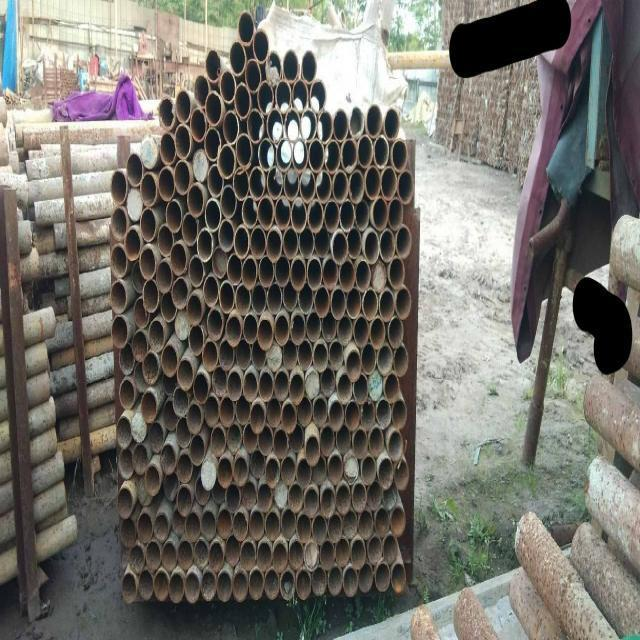pipe: (344, 339, 362, 381), (111, 240, 128, 279), (151, 568, 169, 604), (110, 168, 128, 204), (368, 256, 386, 292), (286, 536, 304, 570), (386, 314, 404, 348), (368, 316, 386, 350), (124, 186, 142, 220), (138, 243, 156, 277), (338, 256, 356, 290), (252, 27, 269, 62), (230, 568, 248, 601), (376, 343, 394, 376), (233, 84, 251, 117), (118, 376, 135, 410), (376, 456, 394, 488), (388, 254, 404, 290), (247, 108, 265, 140), (291, 78, 309, 110), (255, 539, 272, 572), (193, 539, 210, 572), (158, 165, 175, 198), (174, 161, 191, 194), (380, 166, 397, 199), (249, 399, 265, 434), (360, 341, 376, 376), (121, 570, 137, 604), (216, 570, 232, 604), (272, 538, 288, 572), (311, 512, 327, 546), (159, 288, 176, 320), (124, 226, 140, 260), (156, 258, 172, 292), (193, 74, 209, 108), (299, 167, 315, 201), (309, 78, 326, 110), (326, 338, 344, 368), (110, 206, 128, 236), (394, 288, 412, 318), (139, 136, 157, 166), (204, 198, 222, 228), (256, 196, 274, 226), (204, 92, 222, 122), (265, 52, 283, 82), (279, 568, 295, 601), (390, 561, 406, 594), (141, 391, 157, 424), (352, 315, 368, 348), (363, 228, 379, 261), (266, 166, 282, 199), (332, 170, 348, 203), (348, 167, 364, 200), (222, 108, 238, 141), (160, 443, 177, 474), (158, 96, 175, 127), (396, 223, 411, 258), (205, 309, 223, 338), (168, 572, 184, 604), (184, 572, 200, 604), (200, 568, 216, 600), (248, 568, 264, 600), (342, 565, 358, 597), (350, 536, 366, 568), (303, 538, 319, 570), (351, 480, 367, 512), (304, 430, 320, 462), (143, 352, 159, 384), (172, 386, 188, 418), (218, 394, 234, 426), (266, 396, 282, 428), (311, 394, 327, 426), (352, 372, 368, 404), (112, 314, 128, 346), (235, 336, 251, 368), (312, 338, 328, 370), (321, 310, 337, 342), (172, 276, 188, 308), (142, 278, 158, 310), (126, 152, 142, 184), (165, 200, 181, 232), (210, 246, 226, 278), (306, 256, 322, 288), (290, 196, 306, 228), (274, 196, 290, 228), (218, 144, 234, 176), (249, 164, 265, 196), (397, 170, 413, 202), (246, 58, 261, 92), (296, 565, 310, 601), (176, 540, 194, 568), (365, 104, 383, 132), (250, 447, 266, 478), (186, 401, 202, 432), (202, 338, 218, 369), (234, 283, 250, 314), (181, 213, 197, 244), (282, 48, 298, 79), (116, 415, 131, 448), (284, 166, 299, 199), (112, 278, 126, 313), (310, 566, 326, 596), (382, 532, 397, 564), (367, 534, 383, 564), (335, 534, 350, 566), (120, 516, 136, 546), (136, 512, 152, 542), (248, 510, 264, 540), (296, 510, 311, 542), (335, 482, 350, 514), (320, 484, 335, 516), (240, 478, 256, 508), (217, 456, 232, 488), (342, 452, 358, 482), (242, 423, 258, 453), (280, 400, 296, 430), (296, 396, 312, 426), (374, 398, 390, 428), (176, 358, 192, 388), (337, 316, 353, 346), (274, 314, 290, 344), (186, 294, 202, 324), (314, 286, 329, 318), (218, 280, 234, 310), (188, 254, 204, 284), (170, 243, 186, 273), (140, 173, 156, 203), (196, 228, 212, 258), (258, 256, 274, 286), (274, 254, 290, 284), (290, 256, 306, 286), (332, 230, 348, 260), (298, 227, 314, 257), (266, 226, 282, 256), (250, 226, 266, 256), (388, 198, 404, 228), (324, 199, 340, 229), (316, 172, 332, 202), (308, 138, 324, 168), (292, 138, 308, 168), (230, 42, 246, 72), (238, 10, 253, 42), (301, 47, 316, 79), (266, 108, 282, 138), (284, 108, 300, 138), (317, 112, 333, 142), (226, 534, 240, 568), (322, 254, 336, 288), (356, 256, 370, 290), (218, 220, 235, 248), (363, 289, 378, 320), (333, 108, 348, 139), (116, 486, 132, 515), (117, 448, 133, 477), (174, 125, 190, 154), (257, 81, 273, 110), (300, 109, 316, 138), (139, 568, 153, 601), (264, 567, 278, 600), (375, 560, 389, 593), (162, 365, 176, 398), (380, 287, 394, 320), (366, 167, 380, 200), (176, 484, 191, 514), (388, 427, 403, 457), (192, 372, 207, 402), (251, 282, 266, 312), (283, 226, 298, 256), (341, 138, 356, 168), (358, 562, 372, 594), (208, 540, 224, 568), (154, 508, 168, 540), (390, 506, 406, 534), (288, 480, 302, 512), (256, 482, 272, 510), (211, 474, 225, 506), (194, 476, 210, 504), (176, 452, 192, 480), (190, 434, 204, 466), (264, 456, 280, 484), (280, 456, 296, 484), (326, 453, 342, 481), (353, 427, 367, 459), (390, 398, 406, 426), (118, 346, 134, 374), (266, 338, 280, 370), (392, 348, 408, 376), (291, 312, 305, 344), (330, 287, 344, 319), (160, 134, 174, 166), (204, 49, 220, 77), (234, 166, 248, 198), (391, 140, 407, 168), (374, 136, 388, 168), (358, 134, 372, 166), (258, 140, 274, 168), (276, 78, 290, 110), (384, 105, 398, 137), (328, 565, 342, 596), (374, 505, 388, 536), (346, 398, 360, 429), (298, 282, 312, 313), (206, 129, 220, 160), (220, 68, 234, 99), (350, 104, 364, 135), (200, 510, 216, 537), (144, 468, 160, 495), (256, 426, 272, 453), (383, 372, 399, 399), (226, 369, 242, 396), (320, 538, 334, 568), (186, 510, 200, 540), (217, 506, 231, 536), (328, 512, 342, 542), (382, 477, 396, 507), (366, 478, 380, 508), (274, 477, 288, 507), (201, 458, 215, 488), (233, 455, 248, 483), (368, 426, 382, 456), (162, 401, 176, 431), (235, 394, 249, 424), (360, 397, 374, 427), (336, 373, 351, 401), (212, 366, 226, 396), (161, 346, 176, 374), (219, 338, 233, 368), (282, 338, 296, 368), (298, 338, 312, 368), (306, 312, 320, 342), (226, 316, 240, 346), (267, 282, 281, 312), (158, 226, 172, 256), (141, 209, 155, 239), (242, 256, 256, 286), (234, 226, 249, 254), (374, 198, 388, 228), (274, 428, 287, 460), (226, 424, 242, 450), (133, 300, 149, 326), (314, 228, 330, 254), (242, 198, 258, 224), (129, 543, 143, 572), (258, 318, 272, 347), (242, 313, 256, 342), (380, 229, 394, 258), (176, 125, 190, 154), (190, 108, 204, 137), (145, 542, 160, 569), (265, 511, 280, 538), (162, 470, 177, 497), (328, 401, 343, 428), (134, 361, 147, 392), (240, 540, 254, 568), (162, 540, 176, 568), (232, 510, 246, 538), (281, 508, 295, 536), (304, 484, 318, 512), (137, 476, 151, 504), (133, 444, 147, 472), (149, 422, 163, 450), (394, 460, 408, 488), (336, 424, 350, 452), (319, 424, 333, 452), (210, 426, 224, 454), (176, 418, 190, 446), (204, 395, 218, 423), (290, 372, 304, 400), (274, 370, 288, 398), (132, 332, 146, 360), (188, 325, 202, 353), (282, 282, 296, 310), (308, 200, 322, 228), (343, 510, 356, 540), (368, 369, 381, 399), (205, 274, 218, 304), (346, 228, 361, 254), (341, 198, 354, 228), (207, 167, 222, 193), (132, 261, 144, 293), (347, 286, 359, 318), (228, 252, 240, 284), (187, 186, 203, 210), (324, 142, 340, 166), (289, 424, 303, 451), (148, 321, 162, 348), (252, 339, 266, 366), (354, 200, 368, 227), (177, 90, 190, 119), (358, 510, 372, 536), (312, 456, 326, 482), (132, 414, 146, 440), (192, 150, 206, 176), (172, 507, 184, 537), (227, 482, 240, 509), (296, 458, 310, 483), (237, 134, 250, 160), (362, 454, 374, 482), (320, 370, 334, 394), (244, 370, 256, 398), (306, 368, 318, 395), (176, 311, 188, 338), (277, 140, 291, 163), (222, 187, 234, 213), (260, 372, 272, 397)
